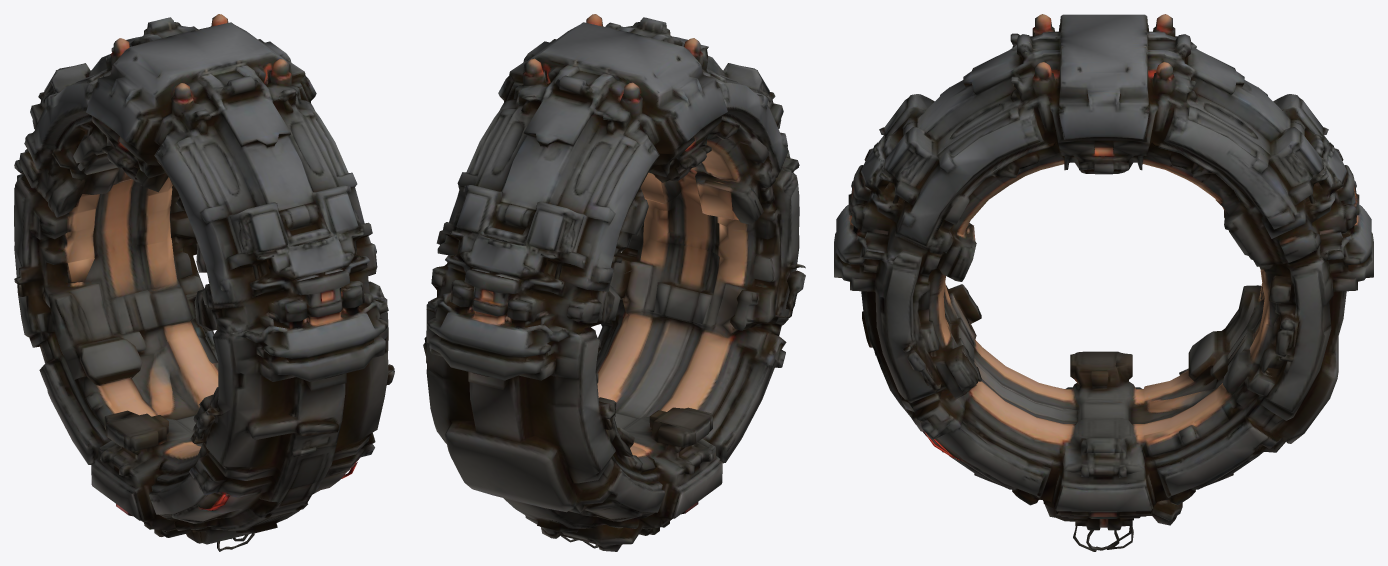
File: Door.glb
3 views of the same model, side by side, from view 1: azimuth 30°, elevation 25°; view 2: azimuth 150°, elevation 25°; view 3: azimuth 270°, elevation 25° (orthographic).
Visible parts, largest first — view 1: tripo_mesh_a4050e2e_ff85_4057_86cf_1525466dba14; view 2: tripo_mesh_a4050e2e_ff85_4057_86cf_1525466dba14; view 3: tripo_mesh_a4050e2e_ff85_4057_86cf_1525466dba14.
Boxes of the visible parts, x1,y1,x2,y2 form: tripo_mesh_a4050e2e_ff85_4057_86cf_1525466dba14: (14, 14, 394, 551); tripo_mesh_a4050e2e_ff85_4057_86cf_1525466dba14: (423, 14, 805, 551); tripo_mesh_a4050e2e_ff85_4057_86cf_1525466dba14: (834, 14, 1373, 551).
Bounding box in the file's own units: 0.3577 × 0.8893 × 0.8658.
1 material, 1 textured.
